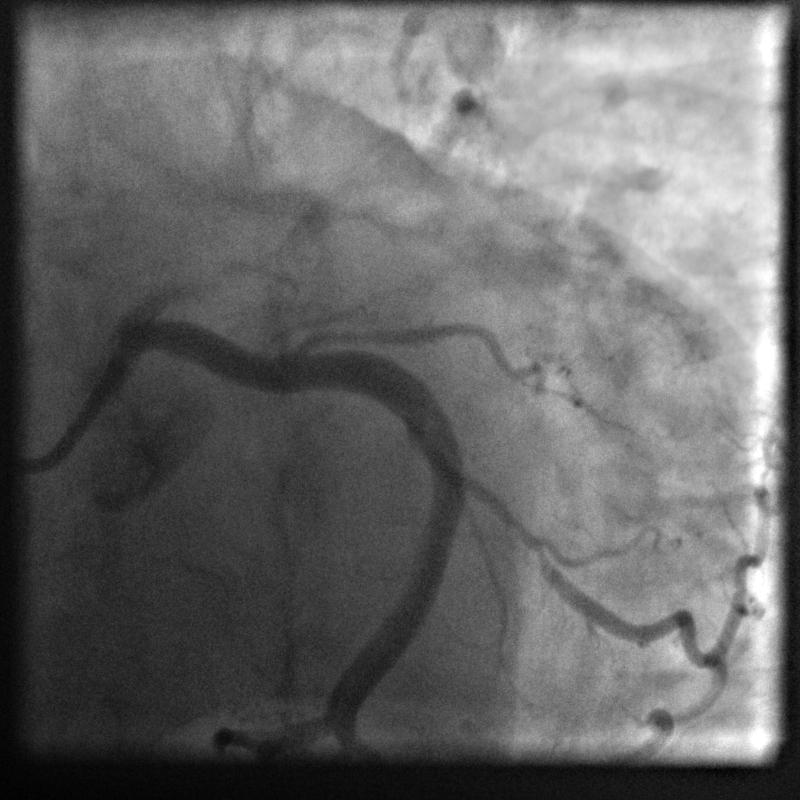Stenosis: (460, 456, 553, 570)
